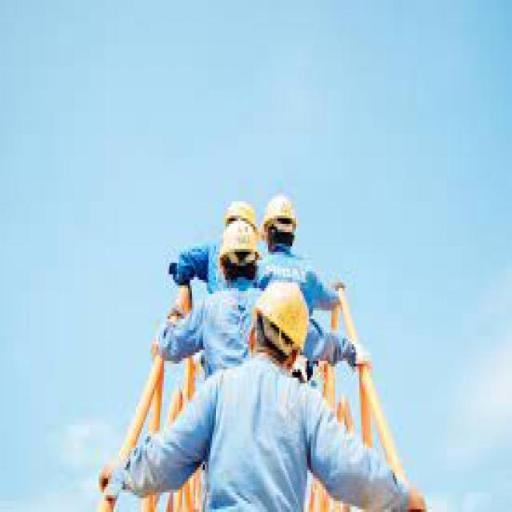helmet: (246, 271, 318, 361), (214, 187, 260, 252), (258, 185, 304, 241)
